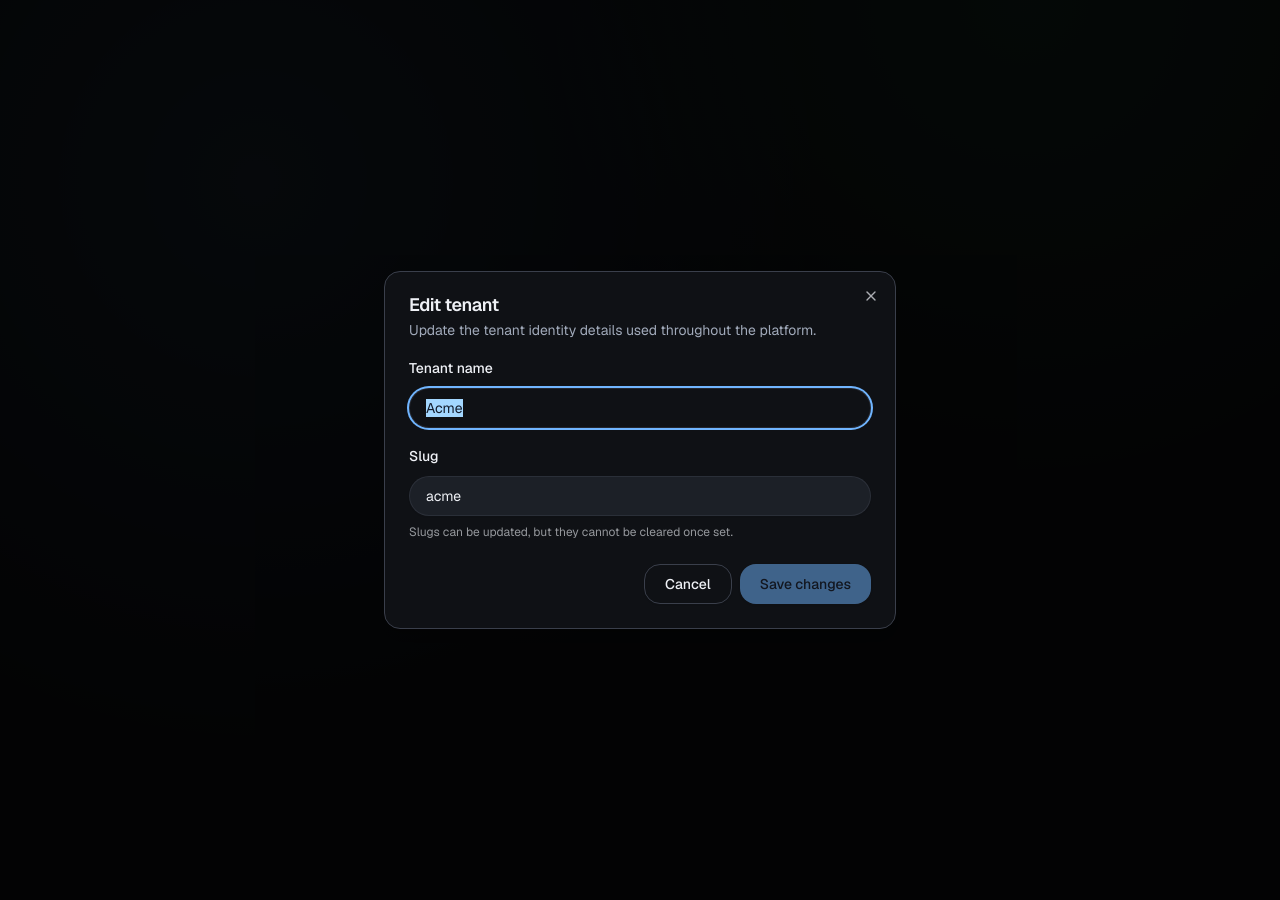
Scenario: TenantEditDialog › blocks clearing a slug once set
Clear the field labelled "Slug" at coordinates (640, 496), box [409,476,871,516]
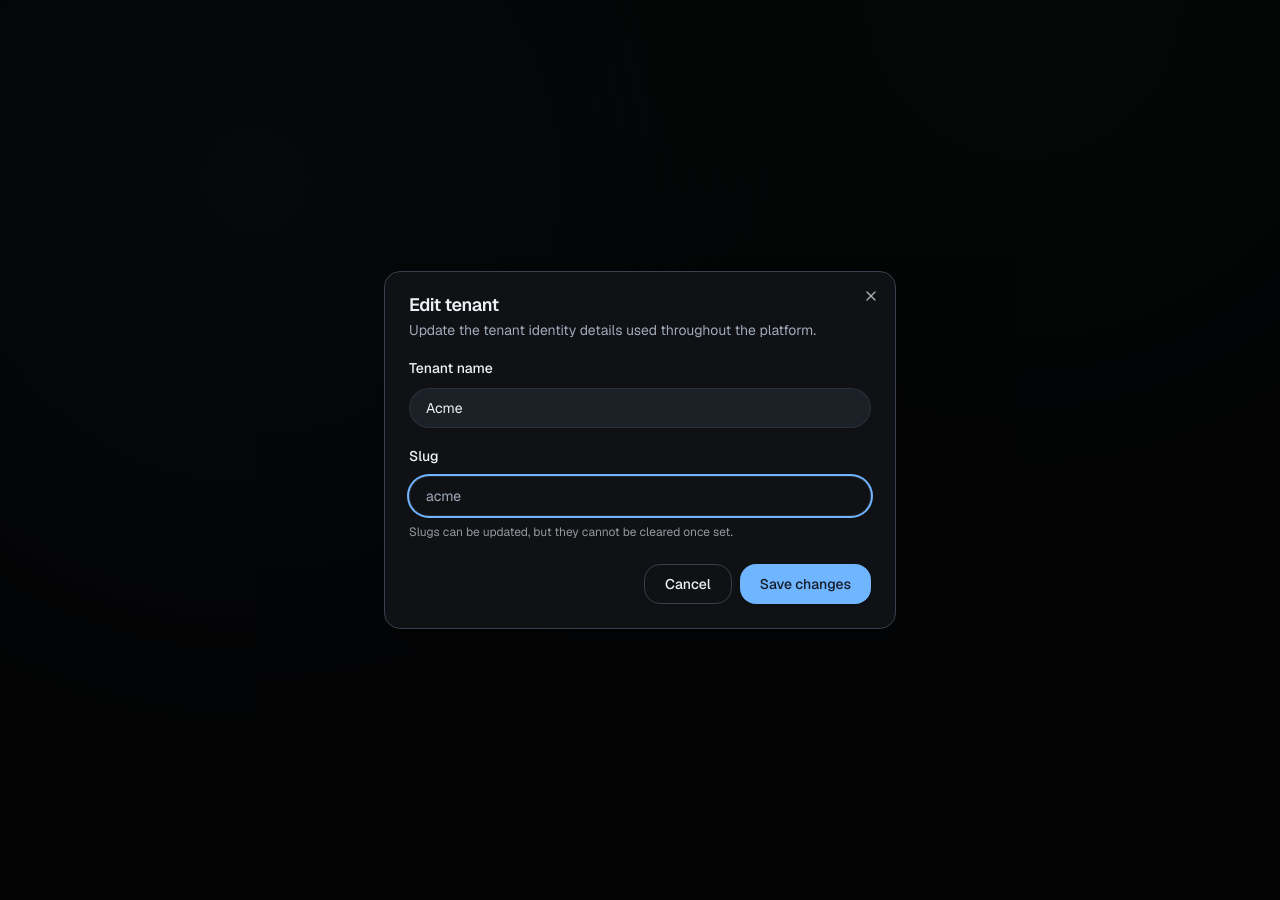
Click the button "Save changes" at coordinates (805, 584), box [740,564,871,604]
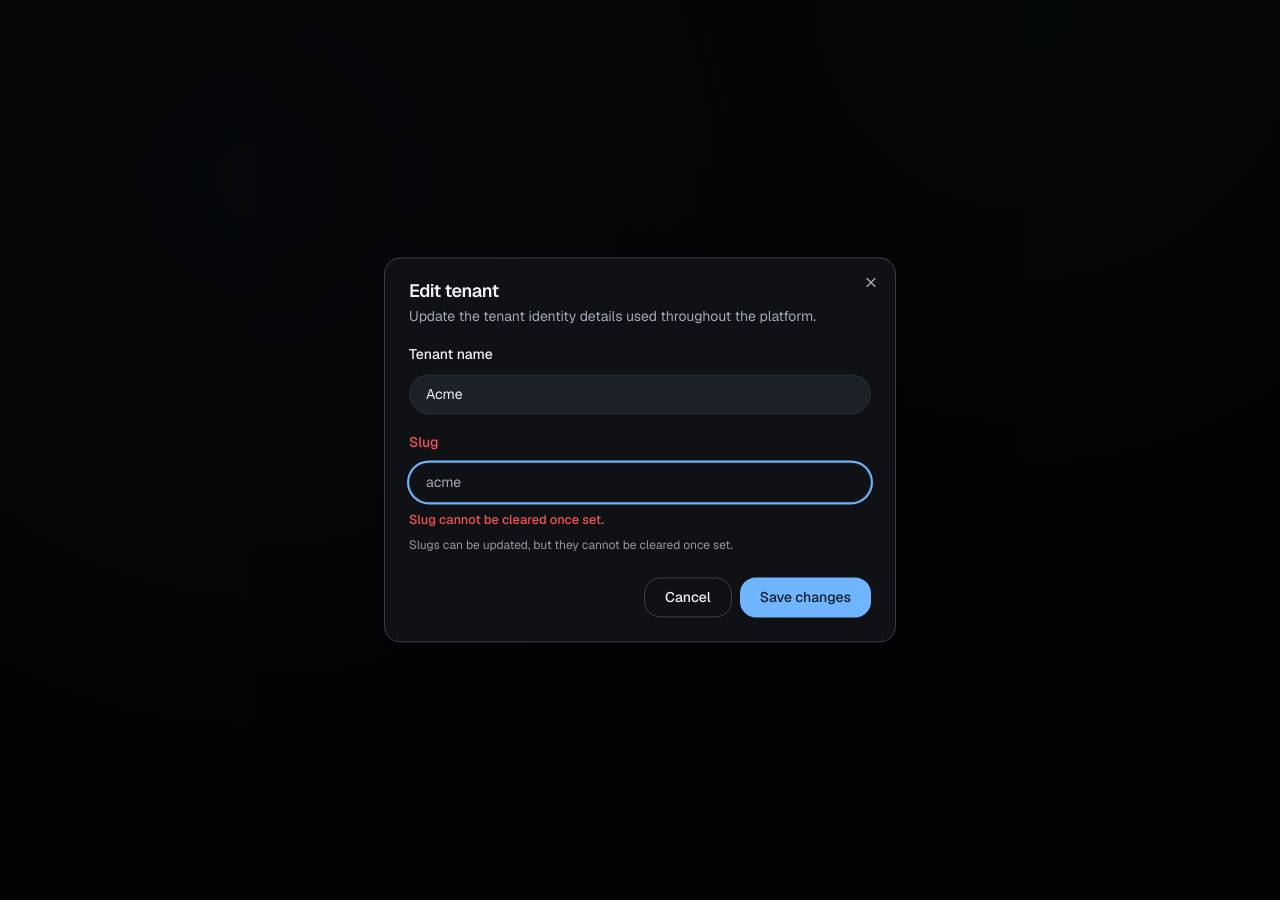
Expected: the text "Slug cannot be cleared once set." is shown, [409,511,604,528]
